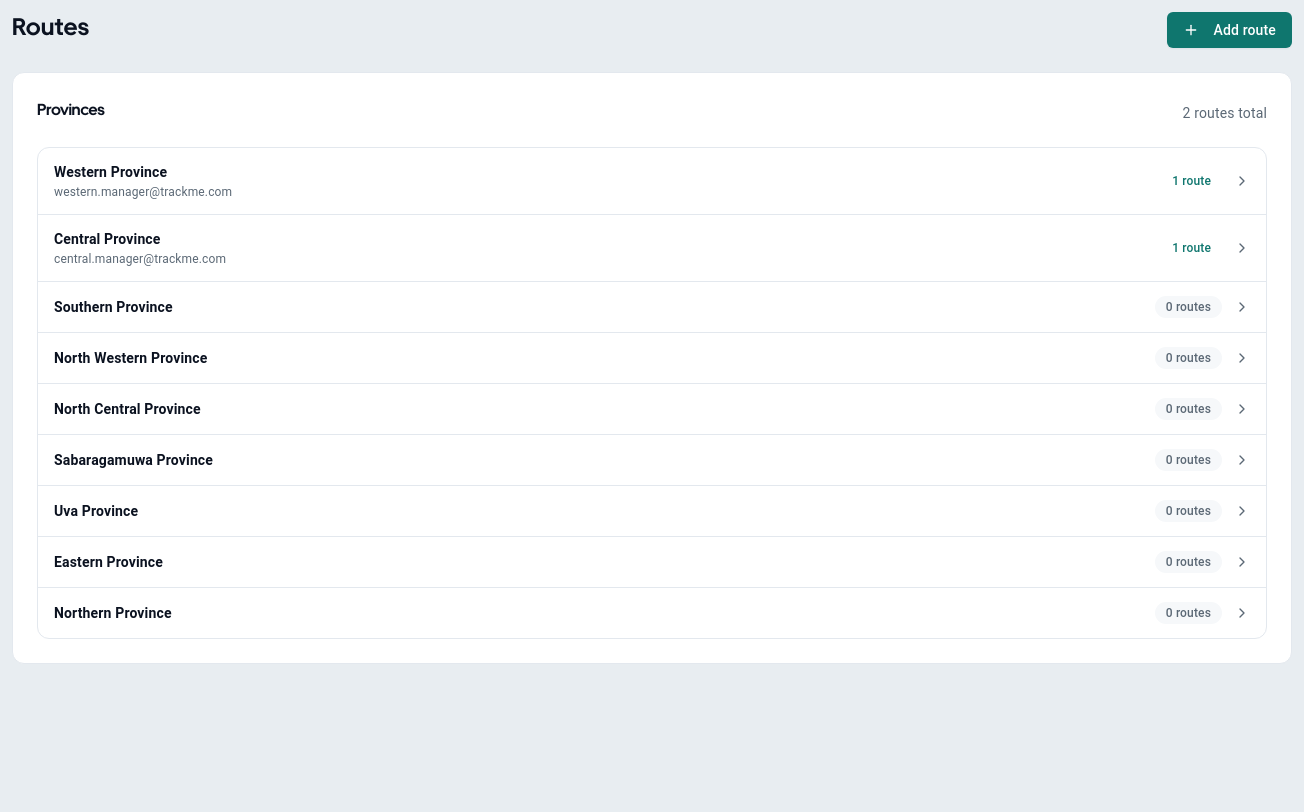
Test case: RoutesPage › drills into province on click and shows route rows
Click the button "Western Province" at (81, 172), box 38,148 -> 1266,214
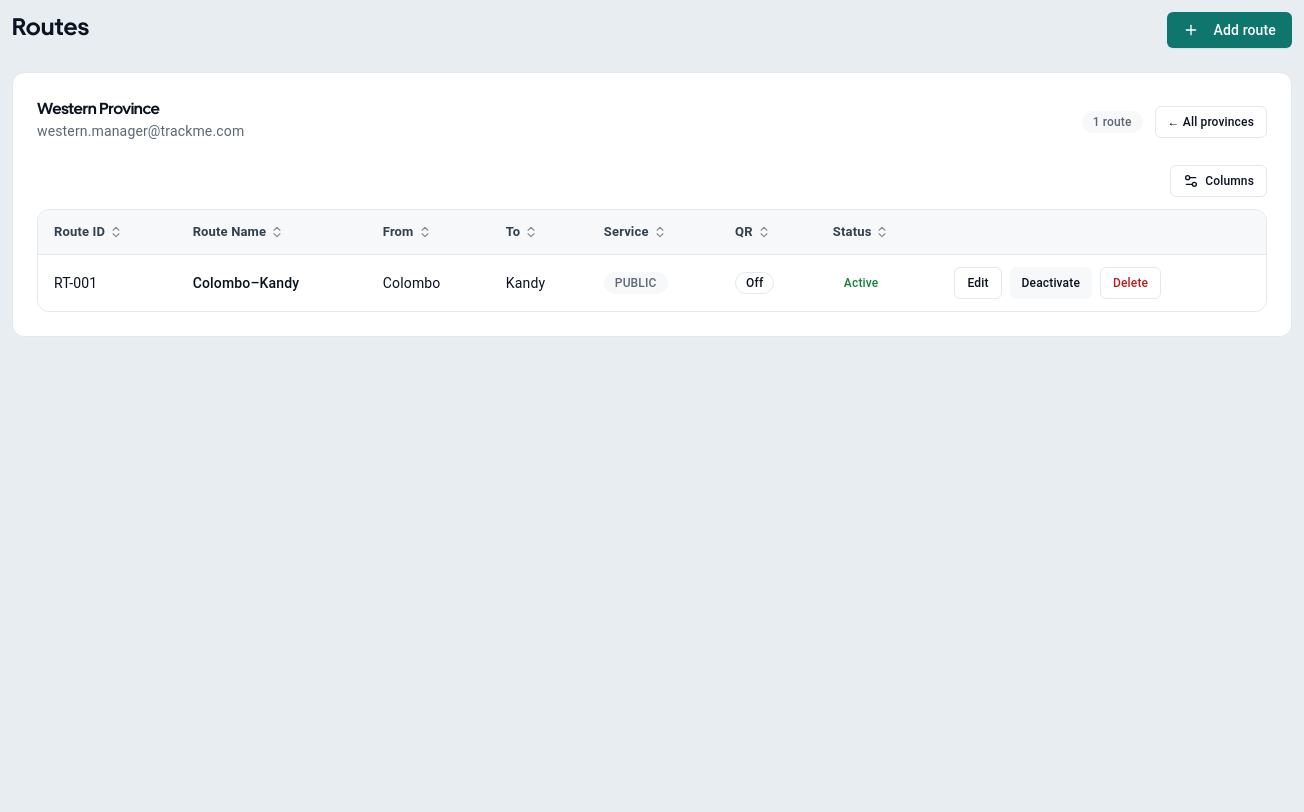
expect the text "Colombo–Kandy" is shown: met, box 193,274 -> 299,290
expect the heading "Western Province" is shown: met, box 37,99 -> 160,118
